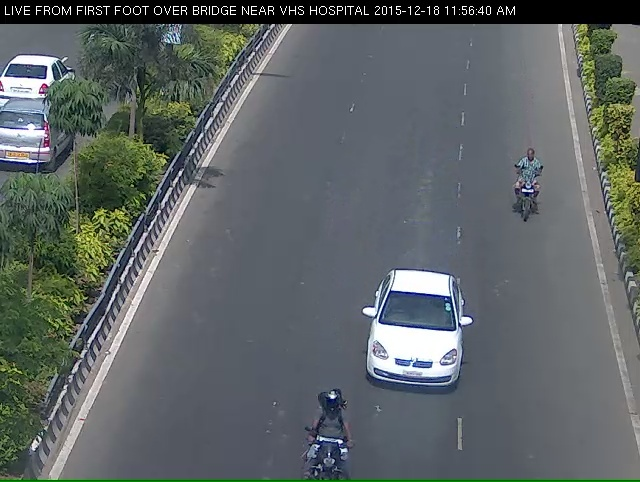Car: (360, 298, 473, 424)
Person: (506, 157, 548, 247)
